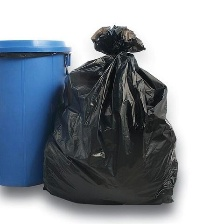plastic_bag: (33, 20, 182, 209)
